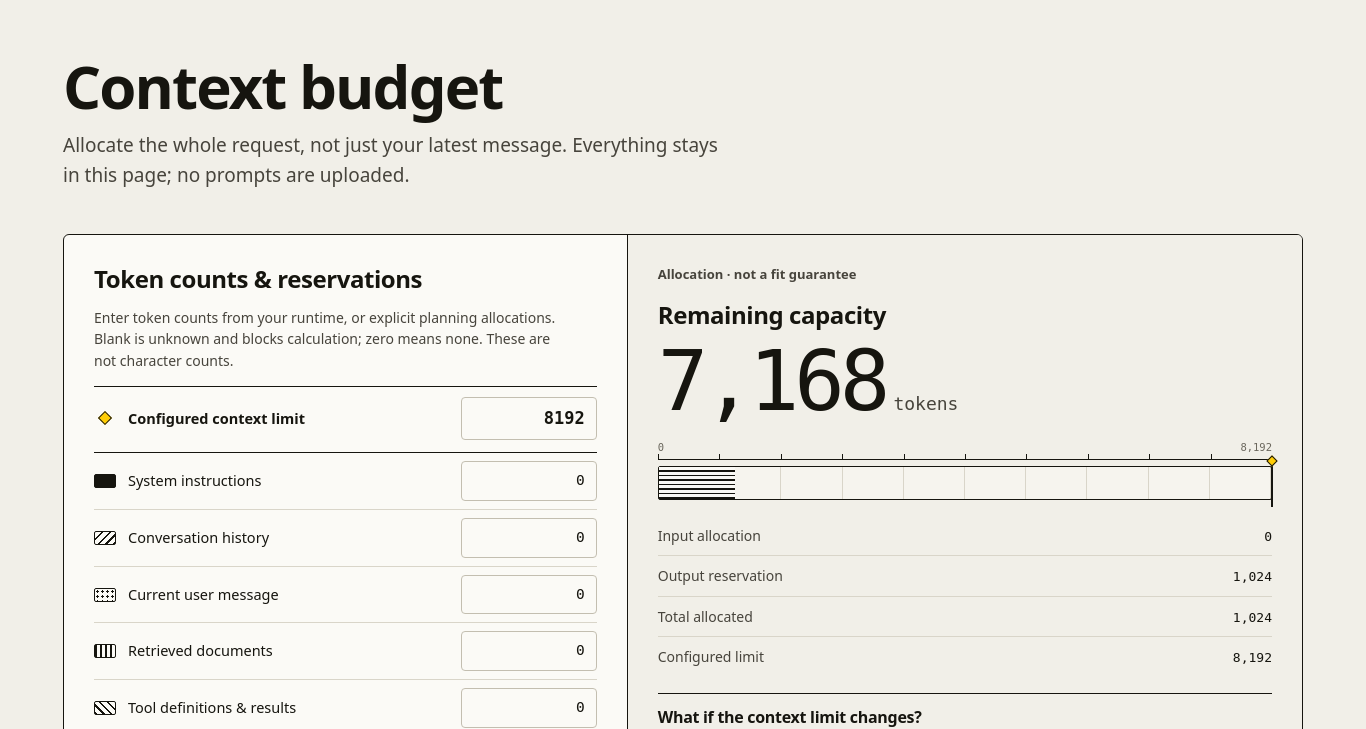
Test: context budget UI › shows overflow and blocks unknown input
Step 1. Replace the text in the field labelled "Configured context limit" with "100" → point(529, 418), box [461,397,597,440]
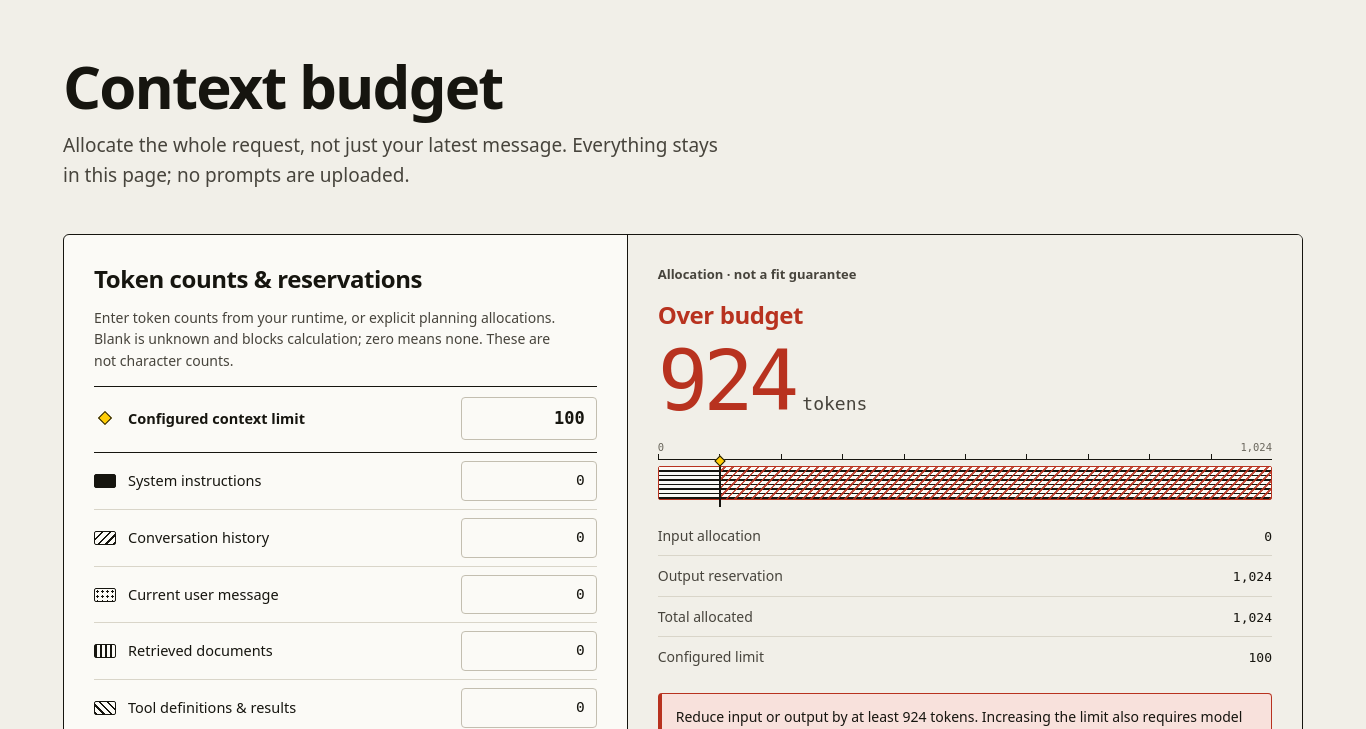
Expected: the heading "Over budget" is shown, [658,298,803,331]
Step 2. Clear the field labelled "Current user message" → point(529, 595), box [461,575,597,614]
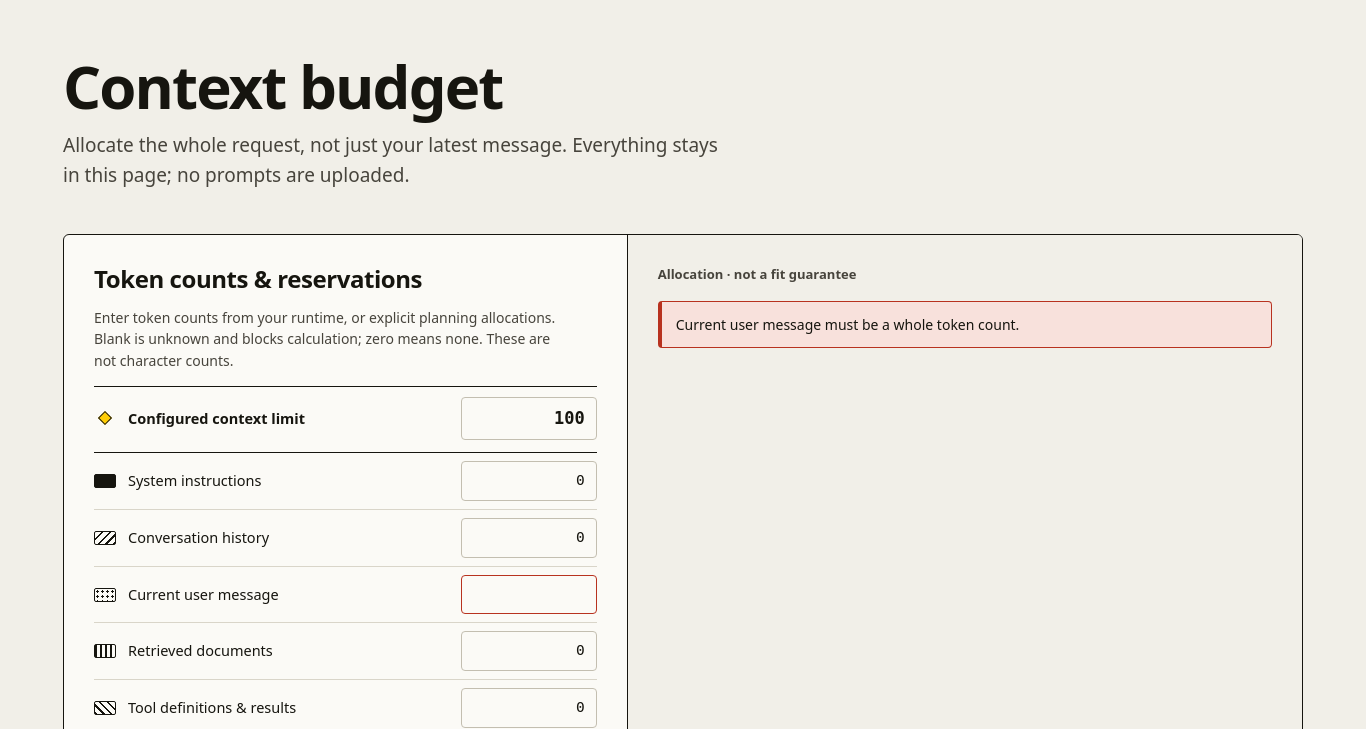
Expected: the message shows "whole token count", [676,315,1019,334]
